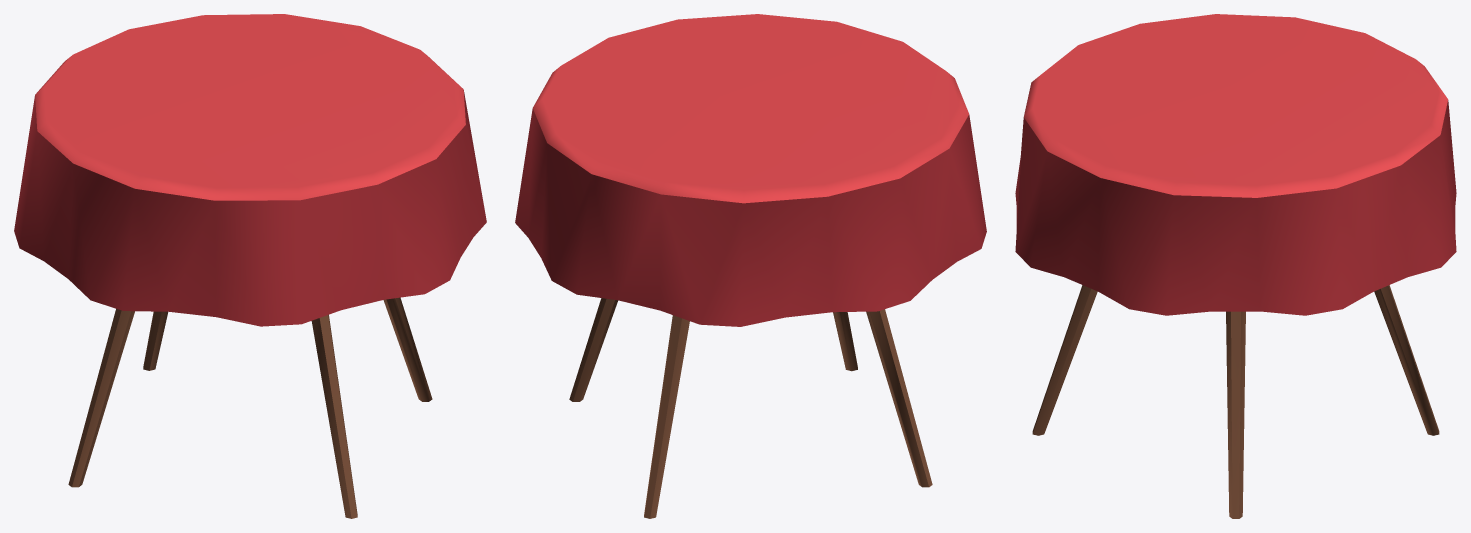
The model's file is mesa_redonda_alta_toalha_cassino_pacote.glb.
3 renders of one model, left to right at view 1: azimuth 30°, elevation 25°; view 2: azimuth 150°, elevation 25°; view 3: azimuth 270°, elevation 25°, orthographic. The views are drawn at different scales.
Parts seen in each view (by area): view 1: mesa_redonda_alta_toalha_cassino_pacote; view 2: mesa_redonda_alta_toalha_cassino_pacote; view 3: mesa_redonda_alta_toalha_cassino_pacote.
Boxes of the visible parts, x1=… form: mesa_redonda_alta_toalha_cassino_pacote: x1=14, y1=14, x2=486, y2=518; mesa_redonda_alta_toalha_cassino_pacote: x1=515, y1=14, x2=986, y2=518; mesa_redonda_alta_toalha_cassino_pacote: x1=1015, y1=14, x2=1456, y2=518.
Bounding box in the file's own units: 1.04 × 0.8654 × 1.04.
Materials: 1 (1 with a texture image).
